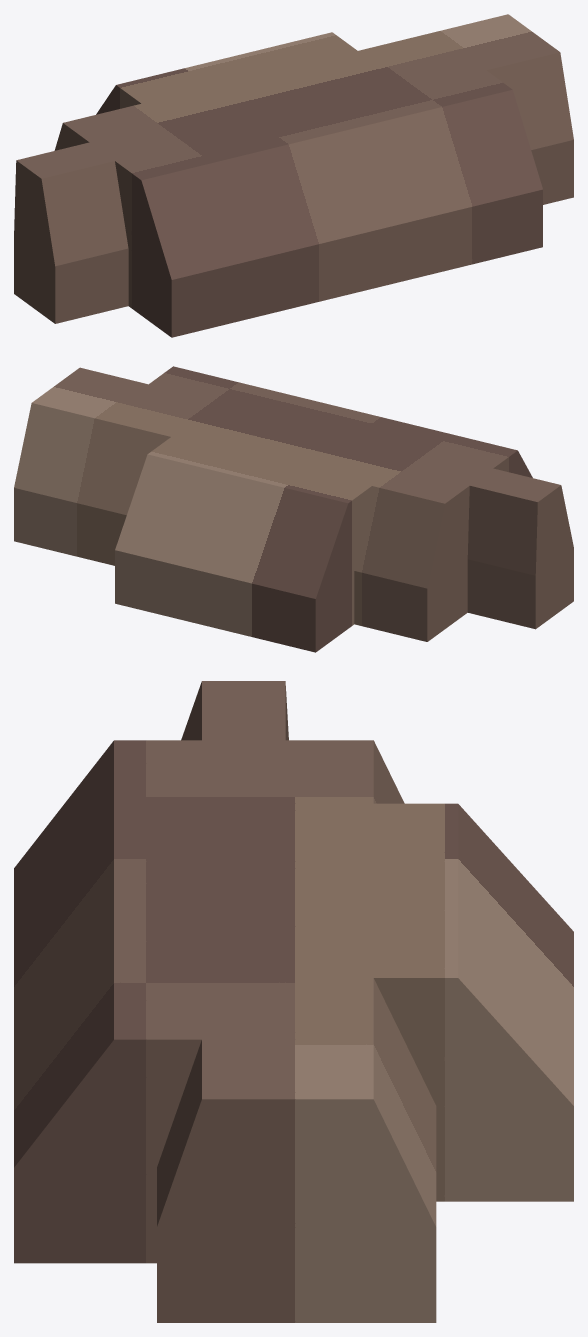
File: small_rock_203x03.gltf
The picture shows the model from 3 angles, top to bottom: view 1: azimuth 30°, elevation 25°; view 2: azimuth 150°, elevation 25°; view 3: azimuth 270°, elevation 25°; orthographic projection. The views are drawn at different scales.
Visible parts, largest first — view 1: small_rock_203x03; view 2: small_rock_203x03; view 3: small_rock_203x03.
Part boxes in pixels (x1,y1,x2,y2): small_rock_203x03: [14, 14, 573, 337]; small_rock_203x03: [14, 366, 573, 652]; small_rock_203x03: [14, 681, 573, 1322].
Bounding box in the file's own units: 0.7616 × 0.1897 × 0.4308.
Materials: 1 (1 with a texture image).
